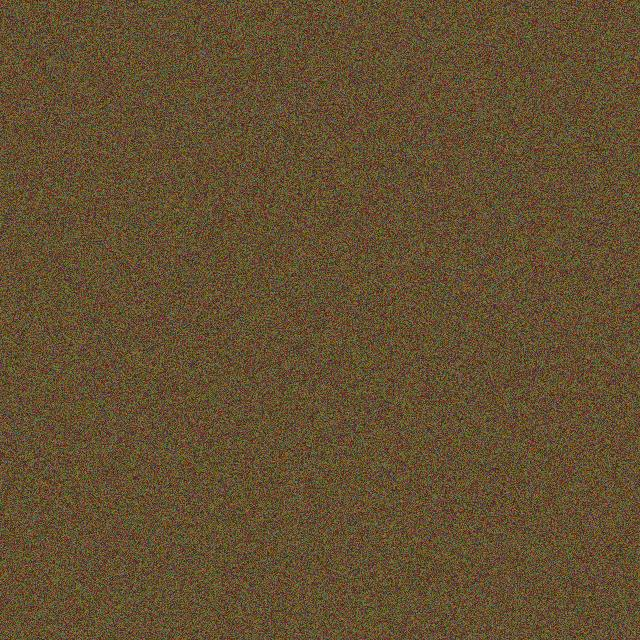unknown_man_made_object: (276, 146, 402, 196)
